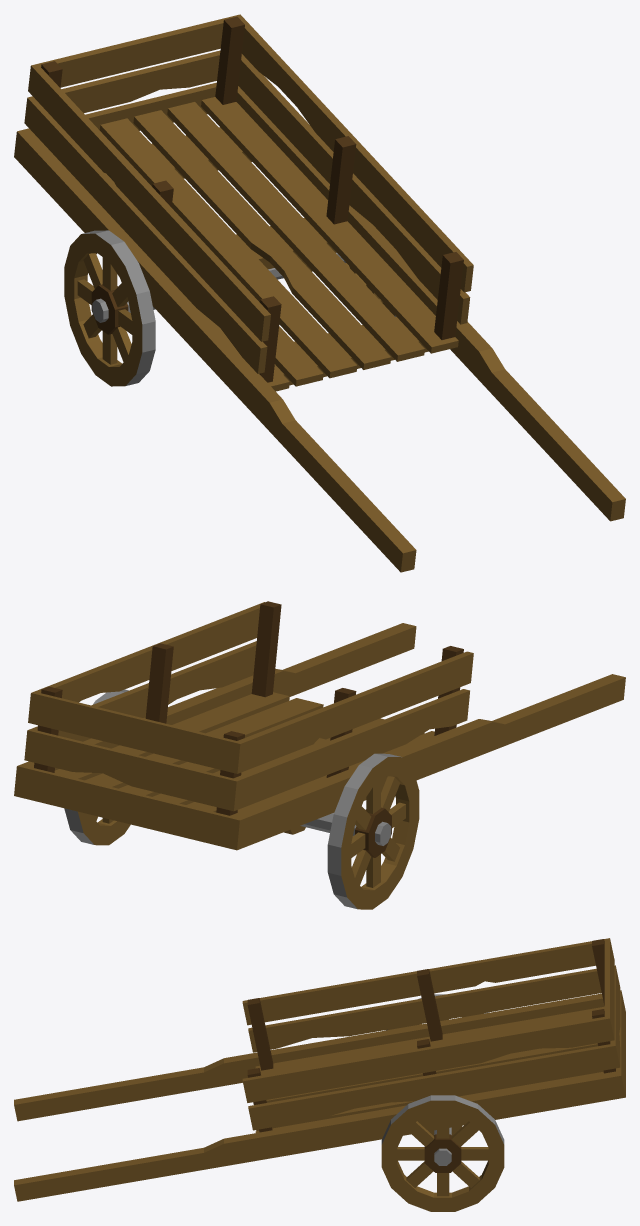
File: Cart_01.fbx
3 views of the same model, one above another, from view 1: azimuth 30°, elevation 25°; view 2: azimuth 150°, elevation 25°; view 3: azimuth 270°, elevation 25° (orthographic). The views are drawn at different scales.
Parts seen in each view (by area): view 1: Cart_01; view 2: Cart_01; view 3: Cart_01.
Boxes of the visible parts, x1,y1,x2,y2 form: Cart_01: [14, 14, 625, 572]; Cart_01: [14, 601, 625, 909]; Cart_01: [14, 938, 625, 1211].
Size of the model in its own units: 213 by 164 by 499.
